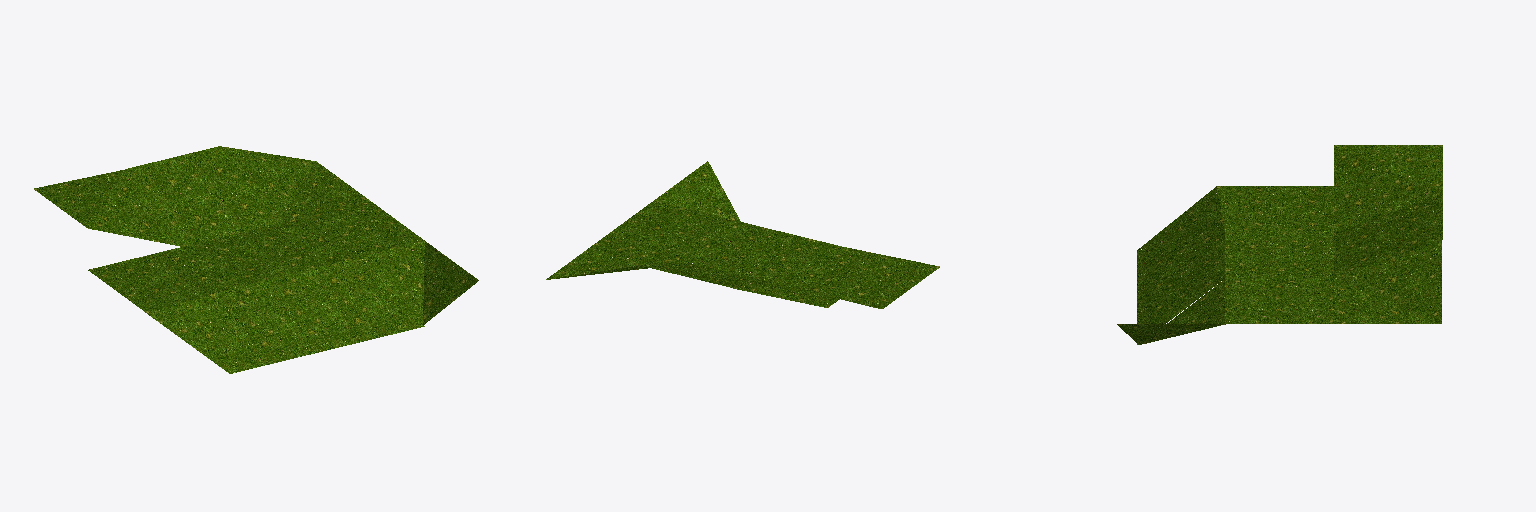
3 renders of one model, left to right at view 1: azimuth 30°, elevation 25°; view 2: azimuth 150°, elevation 25°; view 3: azimuth 270°, elevation 25°, orthographic.
Visible parts, largest first — view 1: floor; view 2: floor; view 3: floor.
Part boxes in pixels (x1,y1,x2,y2): floor: (34, 146, 478, 373); floor: (546, 161, 939, 308); floor: (1117, 145, 1442, 344).
Size of the model in its own units: 71.49 by 20.31 by 71.45.
Materials: 1 (1 with a texture image).